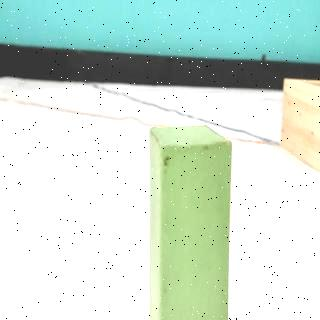greenbox: (147, 121, 235, 320)
